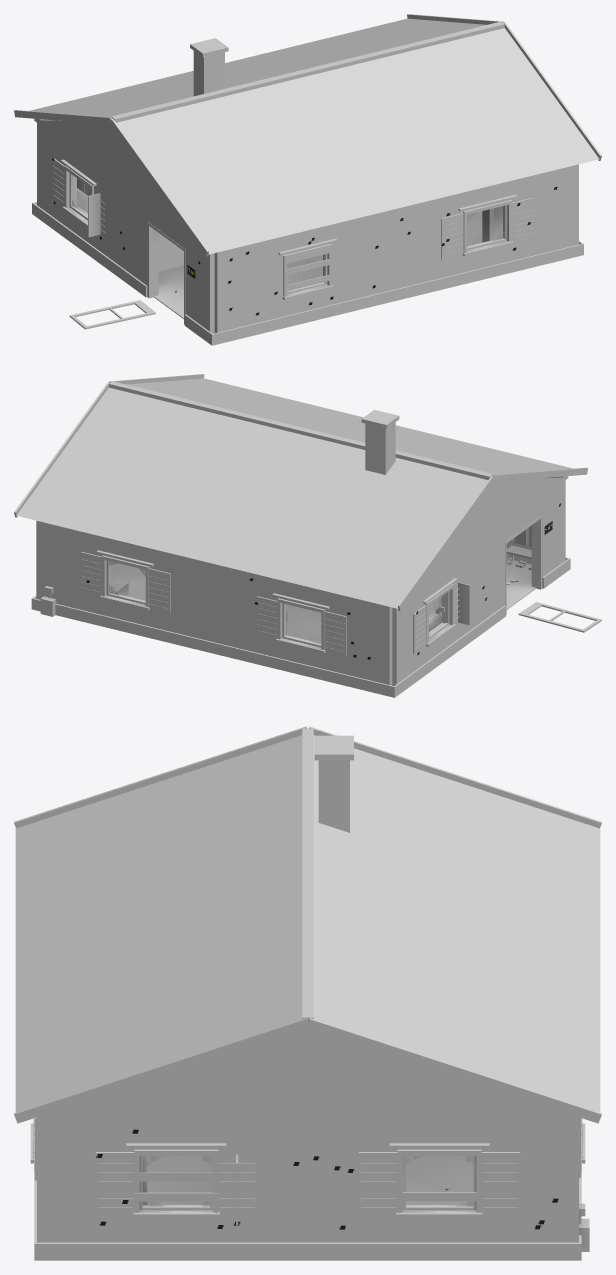
Rendered from old_house_6.glb.
3 renders of one model, top to bottom at view 1: azimuth 30°, elevation 25°; view 2: azimuth 150°, elevation 25°; view 3: azimuth 270°, elevation 25°, orthographic. The views are drawn at different scales.
Visible parts, largest first — view 1: old_house_6; view 2: old_house_6; view 3: old_house_6.
Part boxes in pixels (<box>): old_house_6: <box>14,14,601,345</box>; old_house_6: <box>14,374,601,697</box>; old_house_6: <box>14,726,601,1260</box>.
Size of the model in its own units: 15.43 by 6.53 by 11.17.
Materials: 4 (3 with a texture image).
